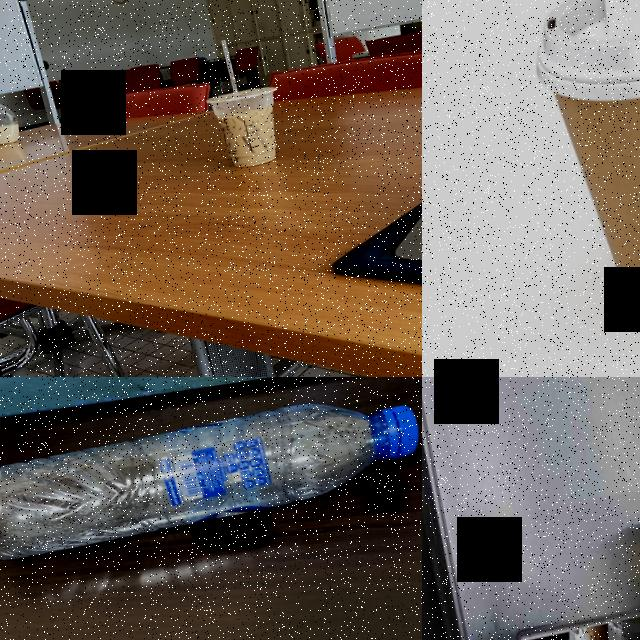bottle: (0, 379, 422, 573)
cup: (518, 0, 640, 321), (203, 82, 291, 172)
